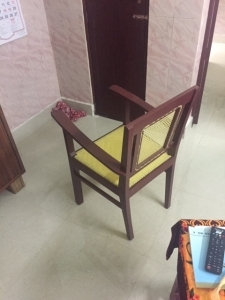chair: (50, 84, 200, 241)
